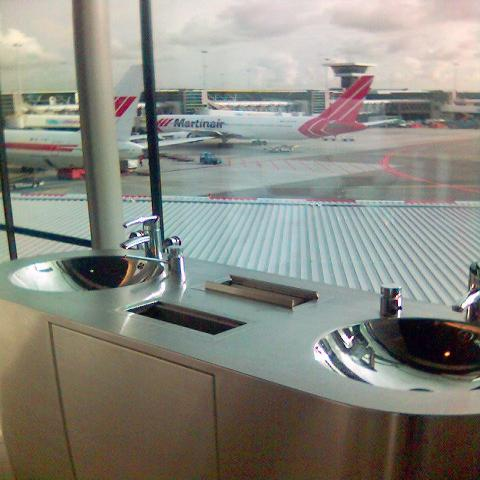truck: (199, 152, 222, 164)
